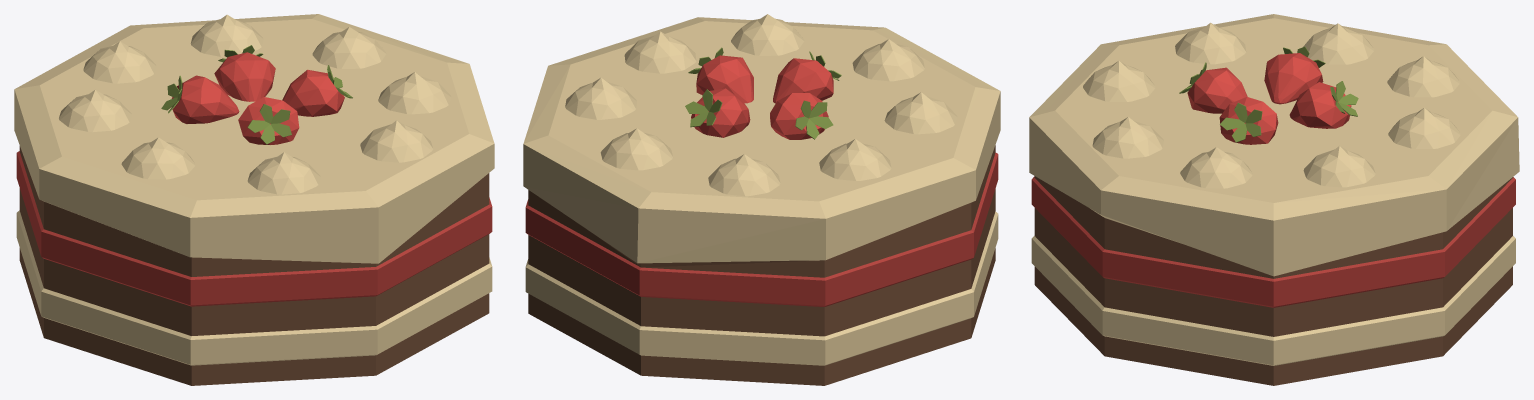
File: Cake_01.fbx
The picture shows the model from 3 angles, left to right: view 1: azimuth 30°, elevation 25°; view 2: azimuth 150°, elevation 25°; view 3: azimuth 270°, elevation 25°; orthographic projection.
Parts seen in each view (by area): view 1: Cake_01; view 2: Cake_01; view 3: Cake_01.
Part boxes in pixels (x1=…): Cake_01: x1=14, y1=14, x2=494, y2=385; Cake_01: x1=523, y1=14, x2=1000, y2=385; Cake_01: x1=1029, y1=14, x2=1519, y2=385.
Bounding box in the file's own units: 24.5 × 11.65 × 24.57.
